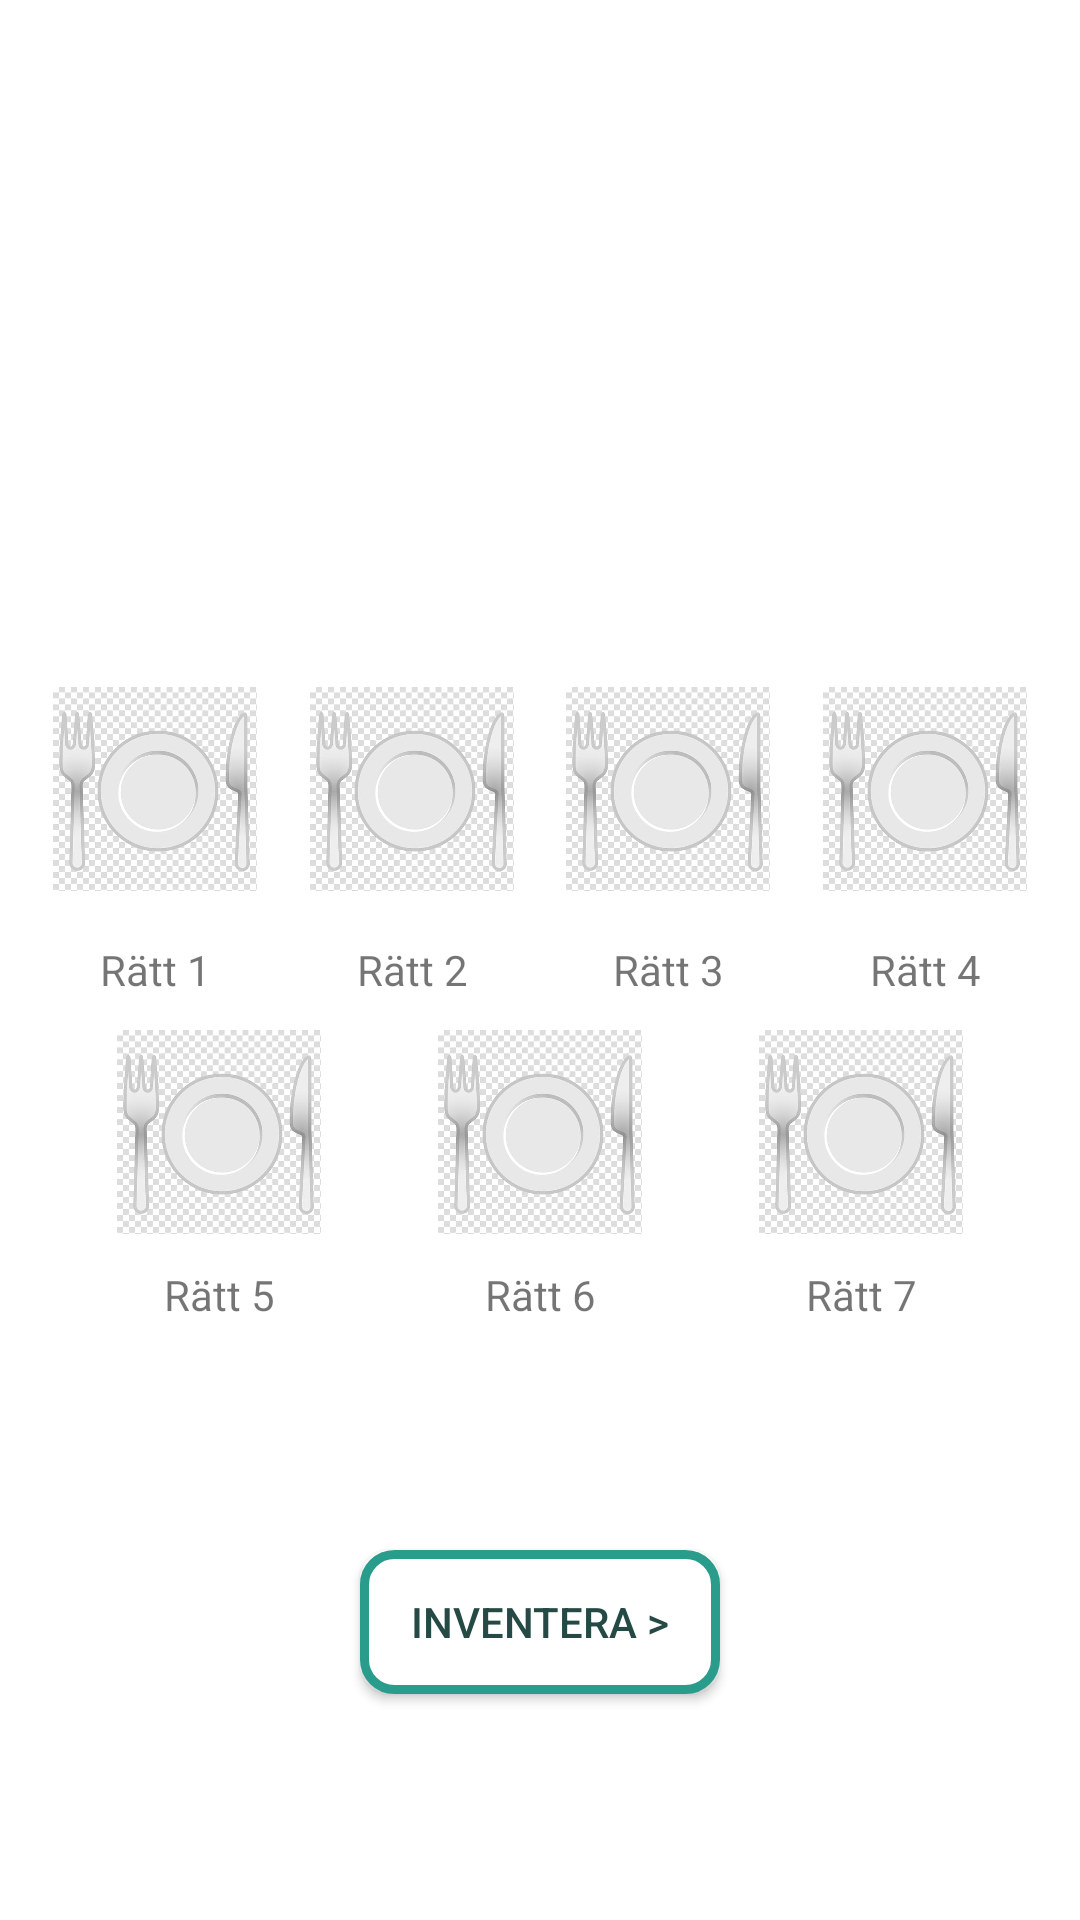

Screen size 1080px×1920px. Icon name, then its center in pixels as (x,y):
plate: (155,789), (412,789), (668,789), (925,789), (219,1132), (540,1132), (861,1132)
